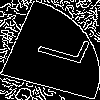L: (24, 24, 92, 67)
